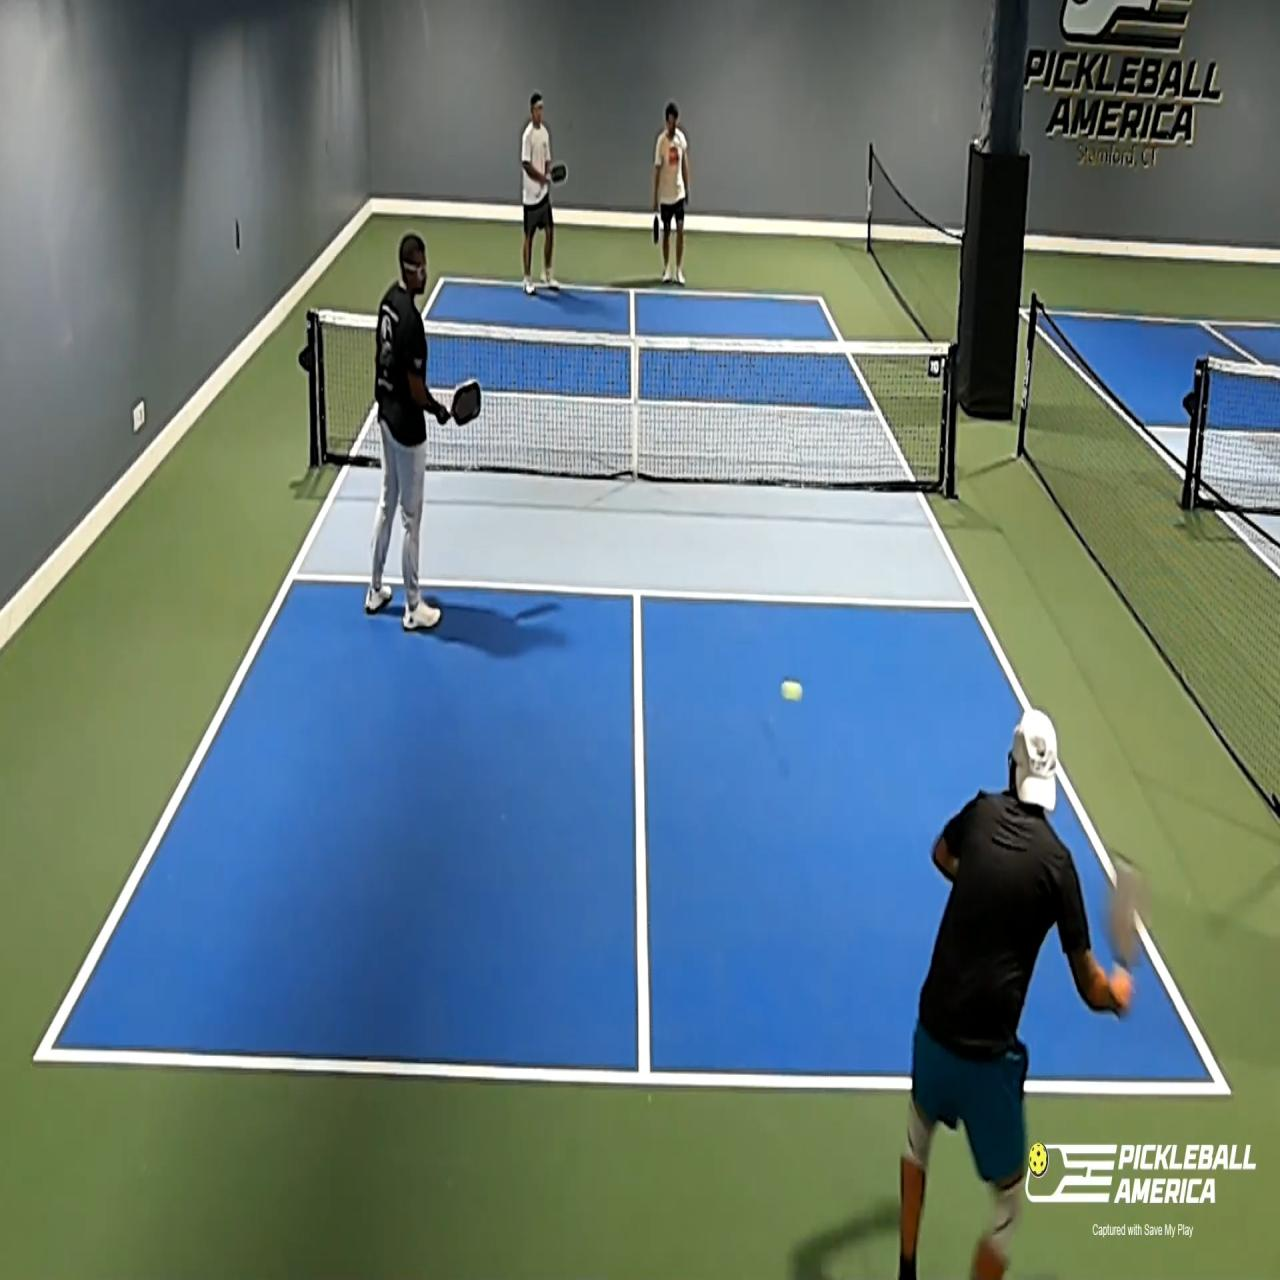Pickleball: (779, 678, 803, 703)
